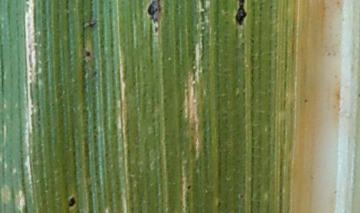tarspot: (147, 1, 159, 23), (235, 1, 246, 25), (68, 196, 76, 208), (214, 199, 222, 209), (88, 22, 97, 28), (153, 25, 160, 32), (237, 192, 244, 199), (186, 183, 192, 190), (85, 51, 92, 57)
